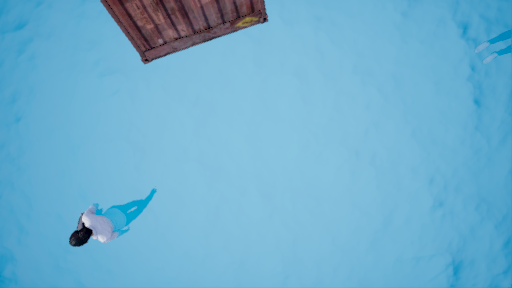person: (66, 188, 156, 249)
